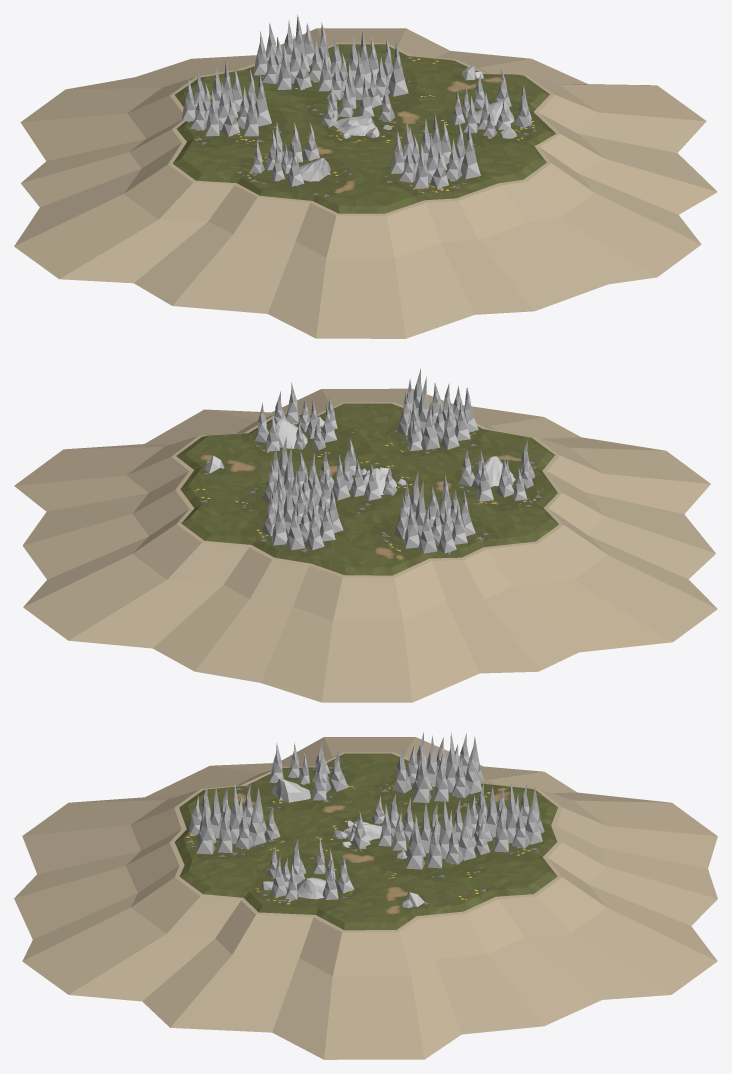
File: hexForest02.fbx
The picture shows the model from 3 angles, top to bottom: view 1: azimuth 30°, elevation 25°; view 2: azimuth 150°, elevation 25°; view 3: azimuth 270°, elevation 25°; orthographic projection. The views are drawn at different scales.
Visible parts, largest first — view 1: hexForest02; view 2: hexForest02; view 3: hexForest02.
Boxes of the visible parts, x1=… form: hexForest02: x1=14, y1=14, x2=717, y2=338; hexForest02: x1=14, y1=368, x2=717, y2=702; hexForest02: x1=14, y1=732, x2=717, y2=1059.
Size of the model in its own units: 28.24 by 4.89 by 26.02.
